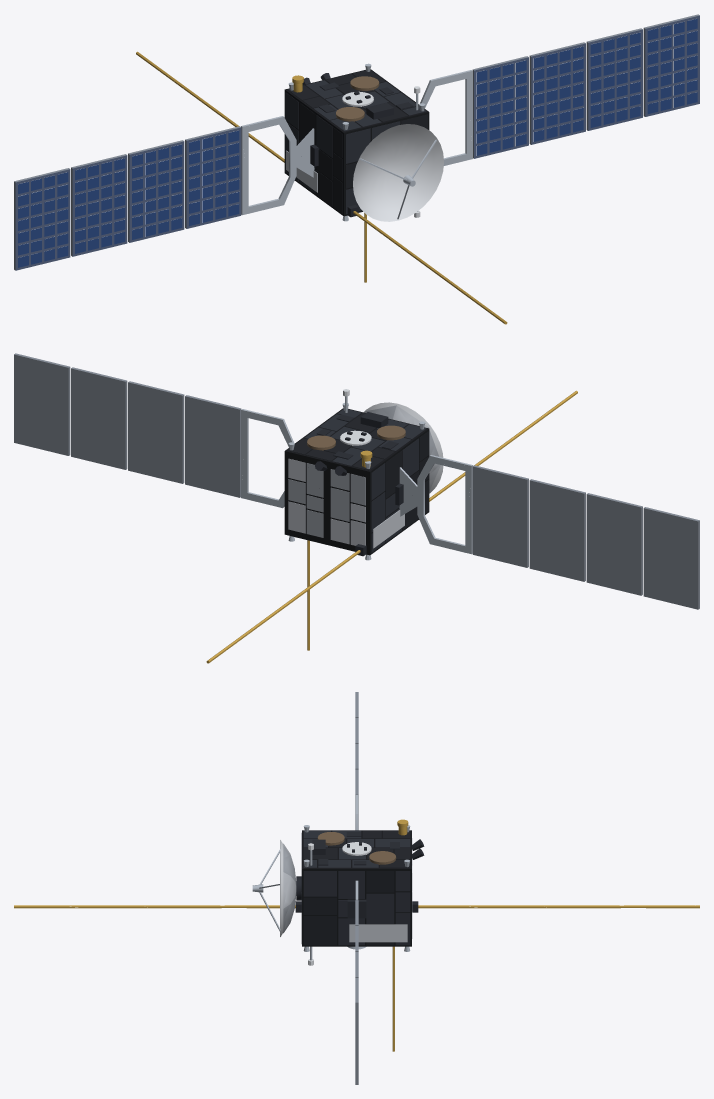
File: mars-express.glb
The picture shows the model from 3 angles, top to bottom: view 1: azimuth 30°, elevation 25°; view 2: azimuth 150°, elevation 25°; view 3: azimuth 270°, elevation 25°; orthographic projection. The views are drawn at different scales.
Parts seen in each view (by area): view 1: body, solar-panel, foil; view 2: body, foil; view 3: foil, body.
Boxes of the visible parts, <box> form: body: <box>14,14,699,324</box>; solar-panel: <box>18,18,697,267</box>; foil: <box>284,69,429,216</box>; body: <box>14,353,699,663</box>; foil: <box>284,405,440,555</box>; foil: <box>283,819,412,946</box>; body: <box>14,692,699,1084</box>.
Size of the model in its own units: 12 by 3.78 by 11.2.
